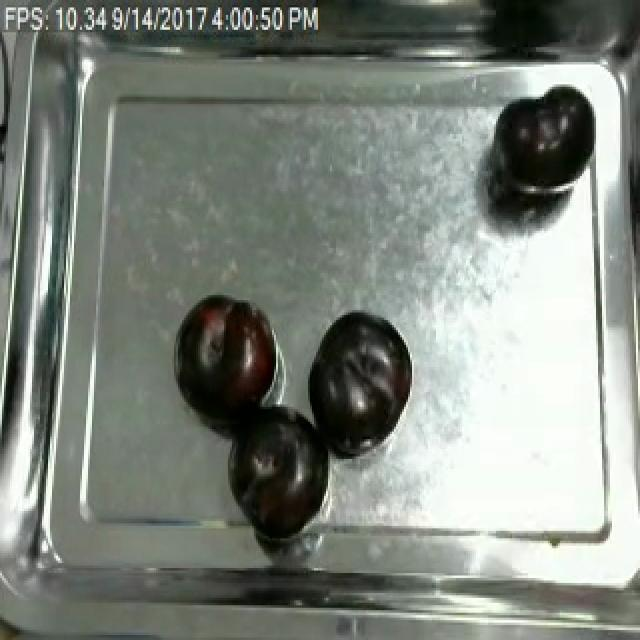Fruit: (304, 305, 414, 457), (170, 288, 278, 429), (228, 402, 334, 543)
